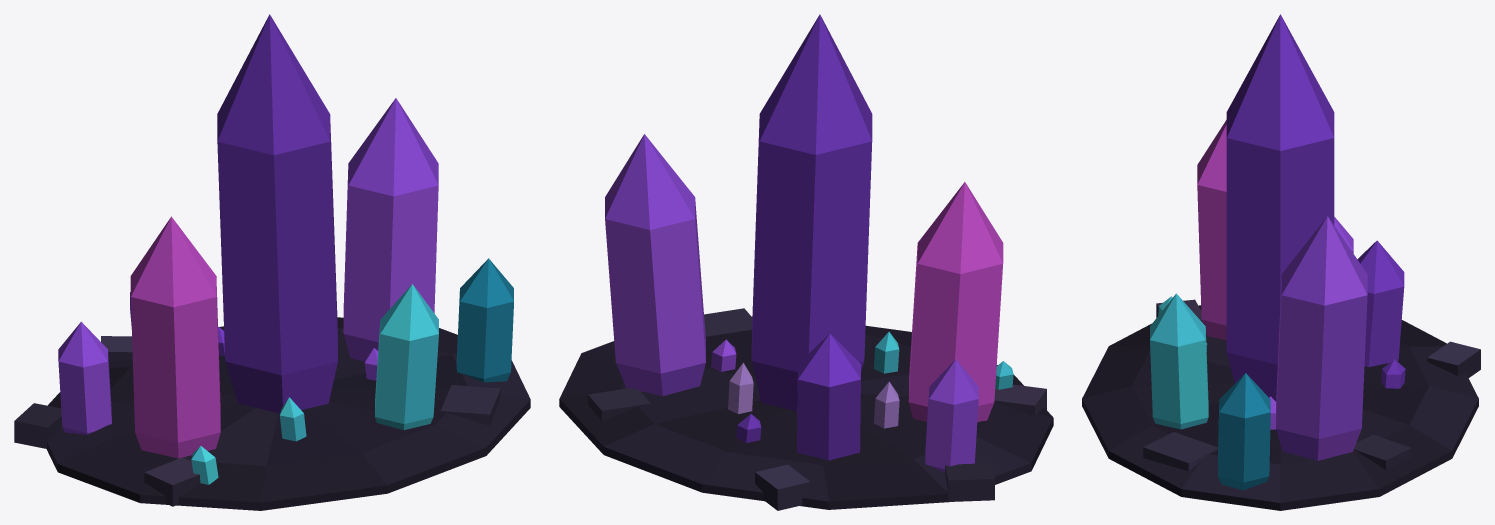
The model's file is Decor_VoidPortal_Crystals.fbx.
3 renders of one model, left to right at view 1: azimuth 30°, elevation 25°; view 2: azimuth 150°, elevation 25°; view 3: azimuth 270°, elevation 25°, orthographic. The views are drawn at different scales.
Visible parts, largest first — view 1: Crystals_Body; view 2: Crystals_Body; view 3: Crystals_Body.
Boxes of the visible parts, box(x1,y1,x2,y2) form: Crystals_Body: box(14, 14, 530, 510); Crystals_Body: box(559, 14, 1053, 510); Crystals_Body: box(1082, 14, 1480, 510).
Size of the model in its own units: 20 by 17.1 by 16.
